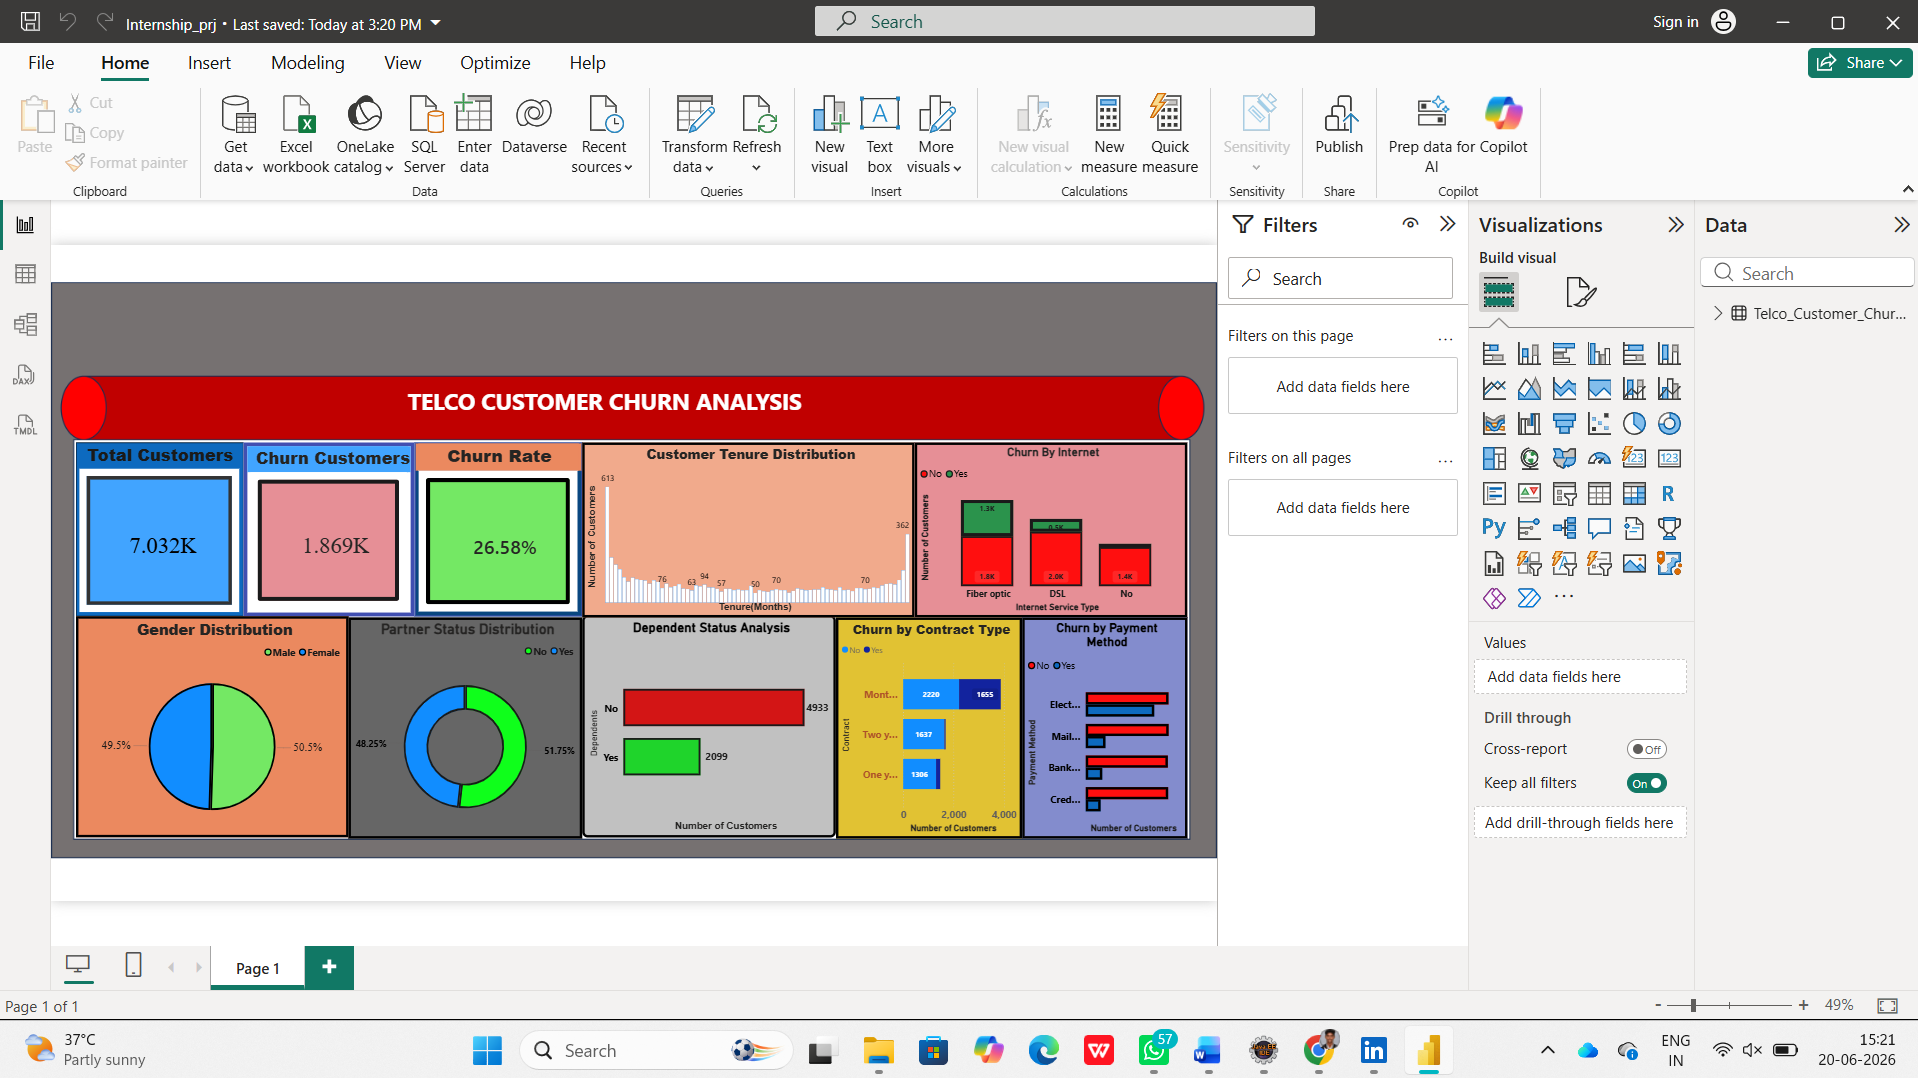

The dashboard page shown, as its layout file describes it:
{"tool":"powerbi","page":{"name":"Page 1","canvas":[1920,1080],"ordinal":0},"visuals":[{"type":"cardVisual","title":"Total Customers","fields":{"Data":["Count(Telco_Customer_Churn_Dataset  (2).customerID)"]},"box":[41.2,325.2,275.8,286.1],"z":0},{"type":"cardVisual","title":"Churn Customers","fields":{"Data":["Count(Telco_Customer_Churn_Dataset  (2).customerID)"]},"box":[317,325.2,282,286.1],"z":1000},{"type":"cardVisual","title":"Churn Rate","fields":{"Data":["Telco_Customer_Churn_Dataset  (2).Churn Rate"]},"box":[599,325.2,275.8,286.1],"z":2000},{"type":"pieChart","title":"Gender Distribution","fields":{"Category":["Telco_Customer_Churn_Dataset  (2).gender"],"Y":["CountNonNull(Telco_Customer_Churn_Dataset  (2).customerID)"]},"box":[41.2,611.3,448.7,364.3],"z":3000},{"type":"donutChart","title":"Partner Status Distribution","fields":{"Category":["Telco_Customer_Churn_Dataset  (2).Partner"],"Y":["CountNonNull(Telco_Customer_Churn_Dataset  (2).customerID)"]},"box":[489.9,613.4,384.9,364.3],"z":4000},{"type":"clusteredBarChart","title":"Dependent Status Analysis","fields":{"Category":["Telco_Customer_Churn_Dataset  (2).Dependents"],"Y":["CountNonNull(Telco_Customer_Churn_Dataset  (2).customerID)"]},"box":[874.8,609.3,417.8,366.4],"z":5000},{"type":"clusteredColumnChart","title":"Customer Tenure Distribution","fields":{"Category":["Telco_Customer_Churn_Dataset  (2).tenure"],"Y":["CountNonNull(Telco_Customer_Churn_Dataset  (2).customerID)"]},"box":[874.8,325.2,547.5,288.2],"z":6000},{"type":"barChart","title":"Churn by Contract Type","fields":{"Series":["Telco_Customer_Churn_Dataset  (2).Churn"],"Category":["Telco_Customer_Churn_Dataset  (2).Contract"],"Y":["CountNonNull(Telco_Customer_Churn_Dataset  (2).customerID)"]},"box":[1292.6,613.4,306.7,364.3],"z":7000},{"type":"columnChart","title":"Churn By Internet","fields":{"Category":["Telco_Customer_Churn_Dataset  (2).InternetService"],"Y":["CountNonNull(Telco_Customer_Churn_Dataset  (2).customerID)"],"Series":["Telco_Customer_Churn_Dataset  (2).Churn"]},"box":[1422.3,325.2,448.7,288.2],"z":8000},{"type":"clusteredBarChart","title":"Churn by Payment Method","fields":{"Y":["CountNonNull(Telco_Customer_Churn_Dataset  (2).customerID)"],"Category":["Telco_Customer_Churn_Dataset  (2).PaymentMethod"],"Series":["Telco_Customer_Churn_Dataset  (2).Churn"]},"box":[1599.3,613.4,271.7,364.3],"z":9000},{"type":"textbox","box":[401.4,209.9,1020.9,115.3],"z":10000}]}

Visuals, with their boxes on the page's 1920x1080 design canvas (x1, y1, x2, y2). These are canvas units, not pixel positions in the 1918x1078 screenshot, which may show the page scaled, cropped or inside an application window:
"Total Customers" cardVisual: BBox(41, 325, 317, 611)
"Churn Customers" cardVisual: BBox(317, 325, 599, 611)
"Churn Rate" cardVisual: BBox(599, 325, 875, 611)
"Gender Distribution" pieChart: BBox(41, 611, 490, 976)
"Partner Status Distribution" donutChart: BBox(490, 613, 875, 978)
"Dependent Status Analysis" clusteredBarChart: BBox(875, 609, 1293, 976)
"Customer Tenure Distribution" clusteredColumnChart: BBox(875, 325, 1422, 613)
"Churn by Contract Type" barChart: BBox(1293, 613, 1599, 978)
"Churn By Internet" columnChart: BBox(1422, 325, 1871, 613)
"Churn by Payment Method" clusteredBarChart: BBox(1599, 613, 1871, 978)
textbox: BBox(401, 210, 1422, 325)
